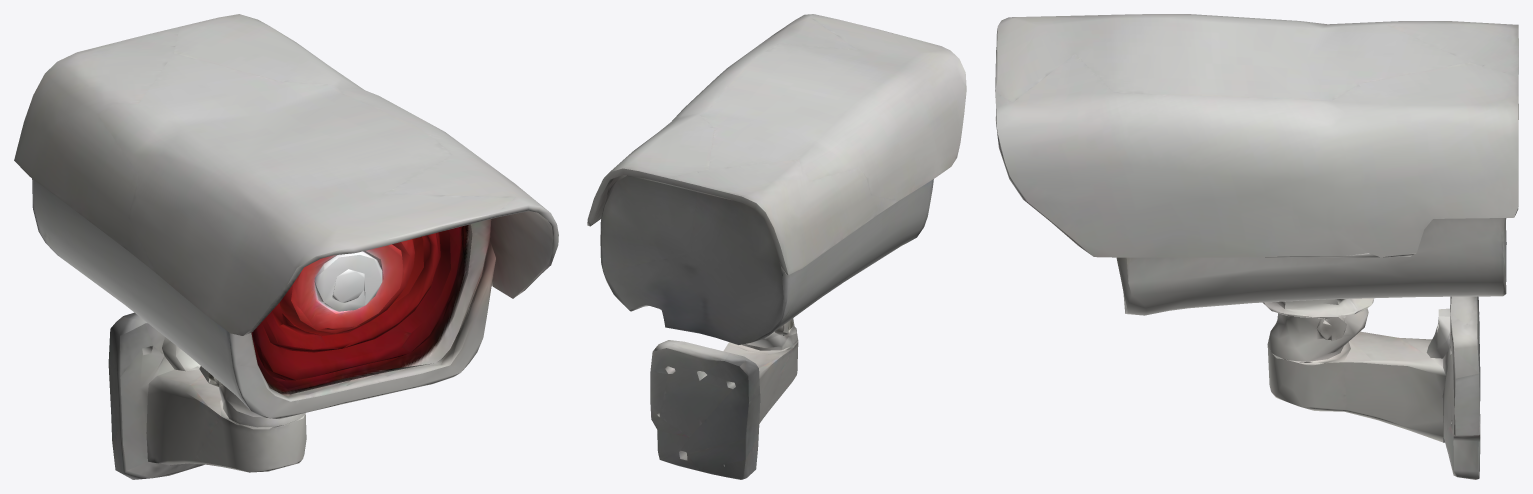
The model's file is m2SecurityCam.glb.
The picture shows the model from 3 angles, left to right: view 1: azimuth 30°, elevation 25°; view 2: azimuth 150°, elevation 25°; view 3: azimuth 270°, elevation 25°; orthographic projection. The views are drawn at different scales.
Visible parts, largest first — view 1: model; view 2: model; view 3: model.
Part boxes in pixels (box(x1,y1,x2,y2)): model: box(14, 14, 558, 479); model: box(587, 14, 966, 479); model: box(995, 14, 1518, 479).
Bounding box in the file's own units: 1.13 × 1.61 × 1.89.
Materials: 1 (1 with a texture image).
